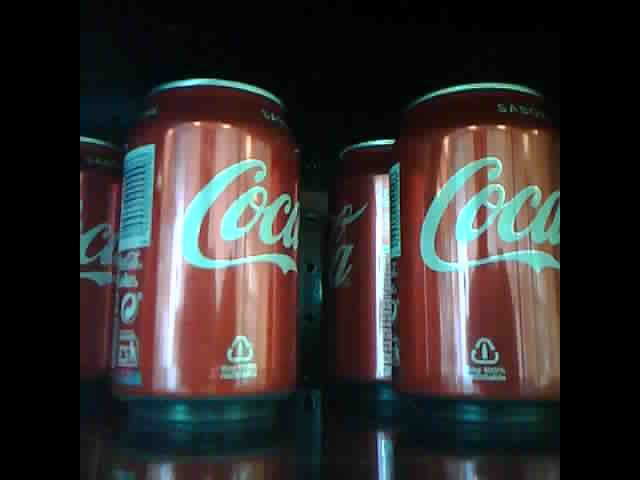coca cola: (120, 72, 301, 422), (396, 80, 559, 409), (327, 136, 396, 387), (78, 127, 119, 400)
